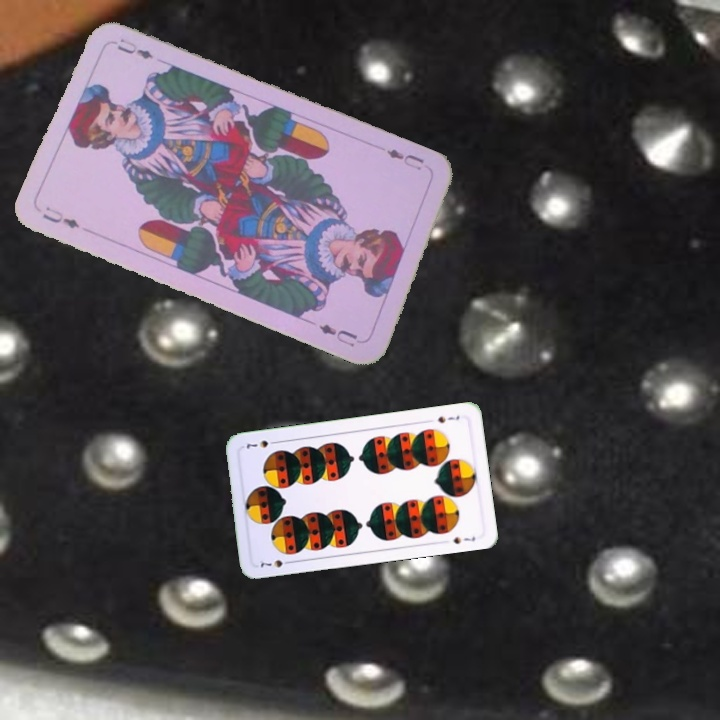EU: (38, 202, 82, 232), (382, 144, 427, 173)
S7: (256, 555, 295, 570), (434, 411, 462, 425)
